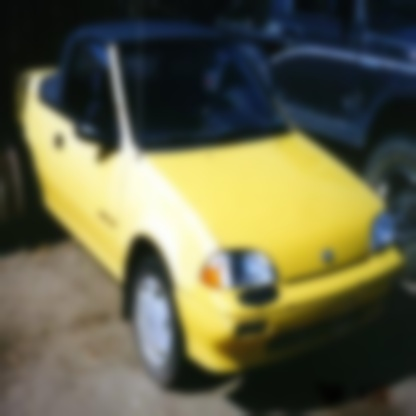Vehicle: (18, 23, 408, 391)
